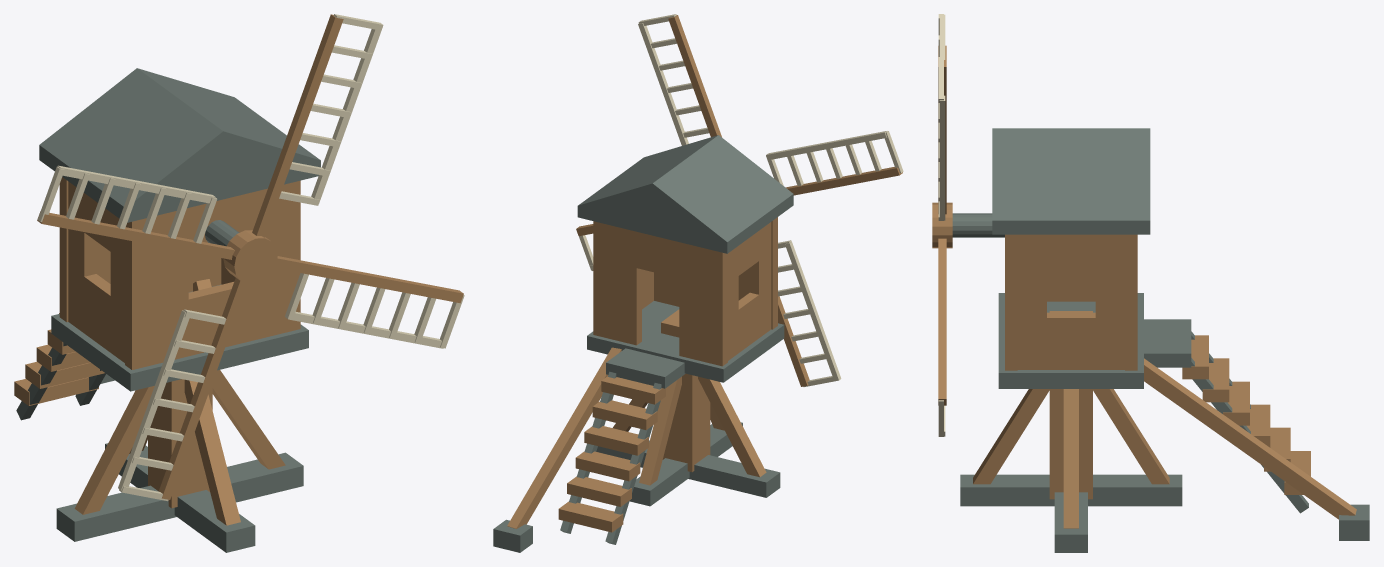
The picture shows the model from 3 angles, left to right: view 1: azimuth 30°, elevation 25°; view 2: azimuth 150°, elevation 25°; view 3: azimuth 270°, elevation 25°; orthographic projection. The views are drawn at different scales.
Parts seen in each view (by area): view 1: WholeThickGabledMillCap, WholeFrontCabinWall, WholeLeftWindowedCabinWall, WholeCrossGroundShoeX, WholeRaisedCabinFloor, WholeCentralFixedMainPost, WholeSailMainSpine0, WholeCrossGroundShoeY, WholeTrestleBrace0, WholeSailMainSpine2, WholeTrestleBrace2, WholeRearCabinWall (+13 smaller); view 2: WholeThickGabledMillCap, WholeRearCabinWall, WholeLeftWindowedCabinWall, WholeRaisedCabinFloor, WholeCentralFixedMainPost, WholeLongFixedRearTailBeam, WholeCrossGroundShoeX, WholeRearEntryLanding, WholeTrestleBrace0, WholeCrossGroundShoeY, WholeFrontCabinWall, WholeTrestleBrace3 (+15 smaller); view 3: WholeThickGabledMillCap, WholeRightWindowedCabinWall, WholeCrossGroundShoeY, WholeLongFixedRearTailBeam, WholeRaisedCabinFloor, WholeCentralFixedMainPost, WholeRearEntryLanding, WholeTrestleBrace1, WholeTrestleBrace3, WholeTrestleBrace2, WholeFrontCabinWall, WholeRearCabinWall (+14 smaller).
Part boxes in pixels (x1,y1,x2,y2): WholeThickGabledMillCap: [39, 68, 320, 222]; WholeFrontCabinWall: [125, 180, 300, 369]; WholeLeftWindowedCabinWall: [68, 181, 124, 362]; WholeCrossGroundShoeX: [56, 452, 303, 541]; WholeRaisedCabinFloor: [51, 284, 308, 391]; WholeCentralFixedMainPost: [148, 379, 212, 508]; WholeSailMainSpine0: [252, 14, 343, 237]; WholeCrossGroundShoeY: [105, 443, 255, 552]; WholeTrestleBrace0: [74, 386, 154, 514]; WholeSailMainSpine2: [158, 278, 247, 499]; WholeTrestleBrace2: [184, 374, 240, 525]; WholeRearCabinWall: [59, 177, 221, 322]; WholeThickGabledMillCap: [577, 135, 793, 253]; WholeRearCabinWall: [593, 221, 727, 366]; WholeLeftWindowedCabinWall: [728, 222, 771, 360]; WholeRaisedCabinFloor: [587, 301, 784, 382]; WholeCentralFixedMainPost: [661, 309, 710, 472]; WholeLongFixedRearTailBeam: [507, 347, 621, 528]; WholeCrossGroundShoeX: [596, 440, 780, 497]; WholeRearEntryLanding: [606, 348, 685, 388]; WholeTrestleBrace0: [698, 376, 766, 477]; WholeCrossGroundShoeY: [630, 422, 742, 506]; WholeFrontCabinWall: [654, 217, 777, 329]; WholeTrestleBrace3: [639, 376, 681, 485]; WholeThickGabledMillCap: [992, 128, 1150, 234]; WholeRightWindowedCabinWall: [1017, 234, 1124, 369]; WholeCrossGroundShoeY: [960, 474, 1182, 506]; WholeLongFixedRearTailBeam: [1144, 358, 1356, 519]; WholeRaisedCabinFloor: [998, 293, 1143, 388]; WholeCentralFixedMainPost: [1049, 311, 1092, 499]; WholeRearEntryLanding: [1144, 319, 1191, 367]; WholeTrestleBrace1: [1063, 389, 1078, 528]; WholeTrestleBrace3: [1093, 389, 1169, 484]; WholeTrestleBrace2: [973, 389, 1049, 484]; WholeFrontCabinWall: [1005, 234, 1017, 370]; WholeRearCabinWall: [1125, 234, 1137, 370].
Size of the model in its own units: 3.52 by 4.15 by 3.43.
